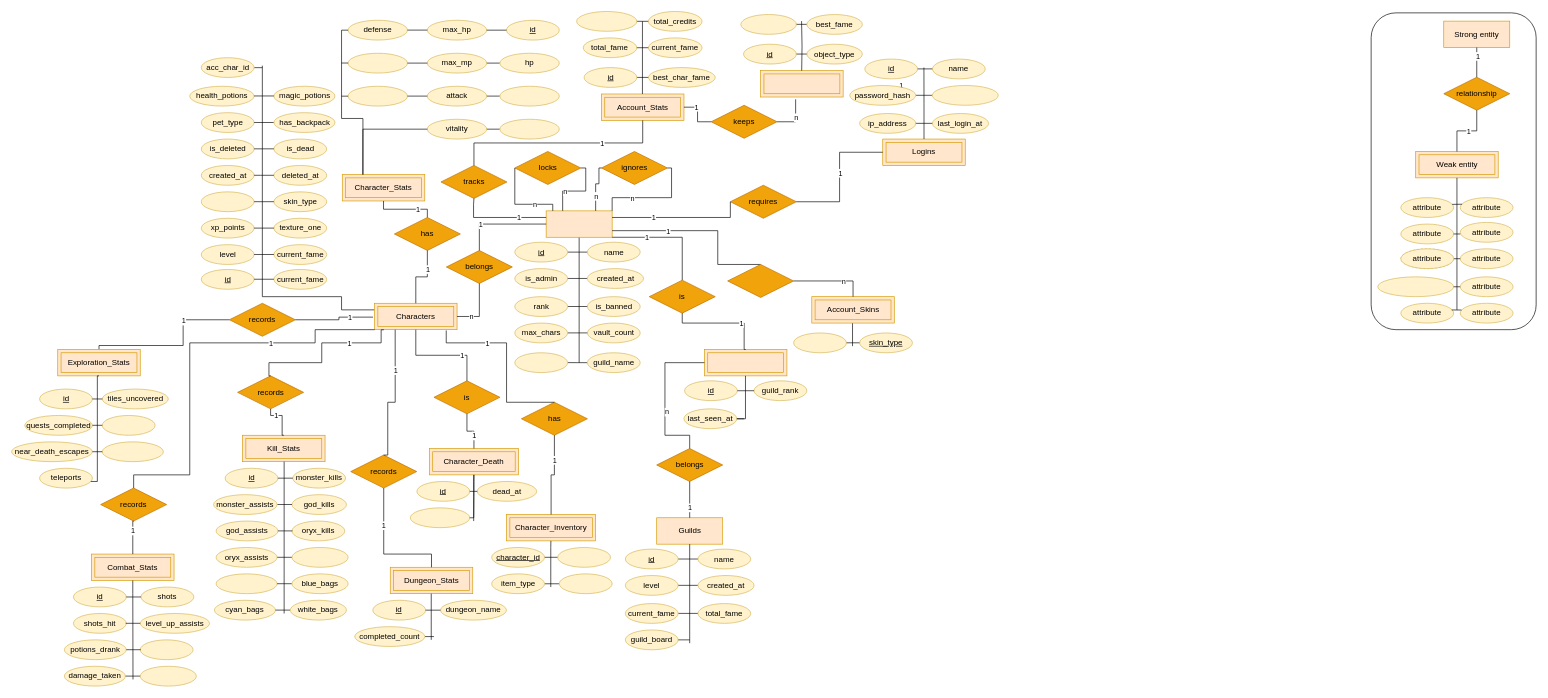
Some shapes in this 1548 by 698 pixel diagram are drawn without their labels. The centre of each missing label's shape, as x and y in pixels:
"abilities_used" belongs at point 166,649.
"account_id" belongs at point 819,342.
"Accounts" belongs at point 578,223.
"best_level" belongs at point 768,24.
"Class_Stats" belongs at point 801,83.
"cube_assists" belongs at point 246,583.
"cube_kills" belongs at point 319,557.
"current_credits" belongs at point 606,21.
"damage_dealt" belongs at point 168,676.
"death_fame" belongs at point 440,517.
"dexterity" belongs at point 377,96.
"escapes" belongs at point 128,425.
"Guild_Members" belongs at point 745,362.
"item_data" belongs at point 585,583.
"minutes_active" belongs at point 132,451.
"mp" belongs at point 529,96.
"next_char_id" belongs at point 541,362.
"owns" belongs at point 760,280.
"password_salt" belongs at point 965,95.
"primary_key" belongs at point 1415,286.
"slot_id" belongs at point 583,557.
"speed" belongs at point 377,63.
"texture_two" belongs at point 227,201.
"wisdom" belongs at point 529,129.
